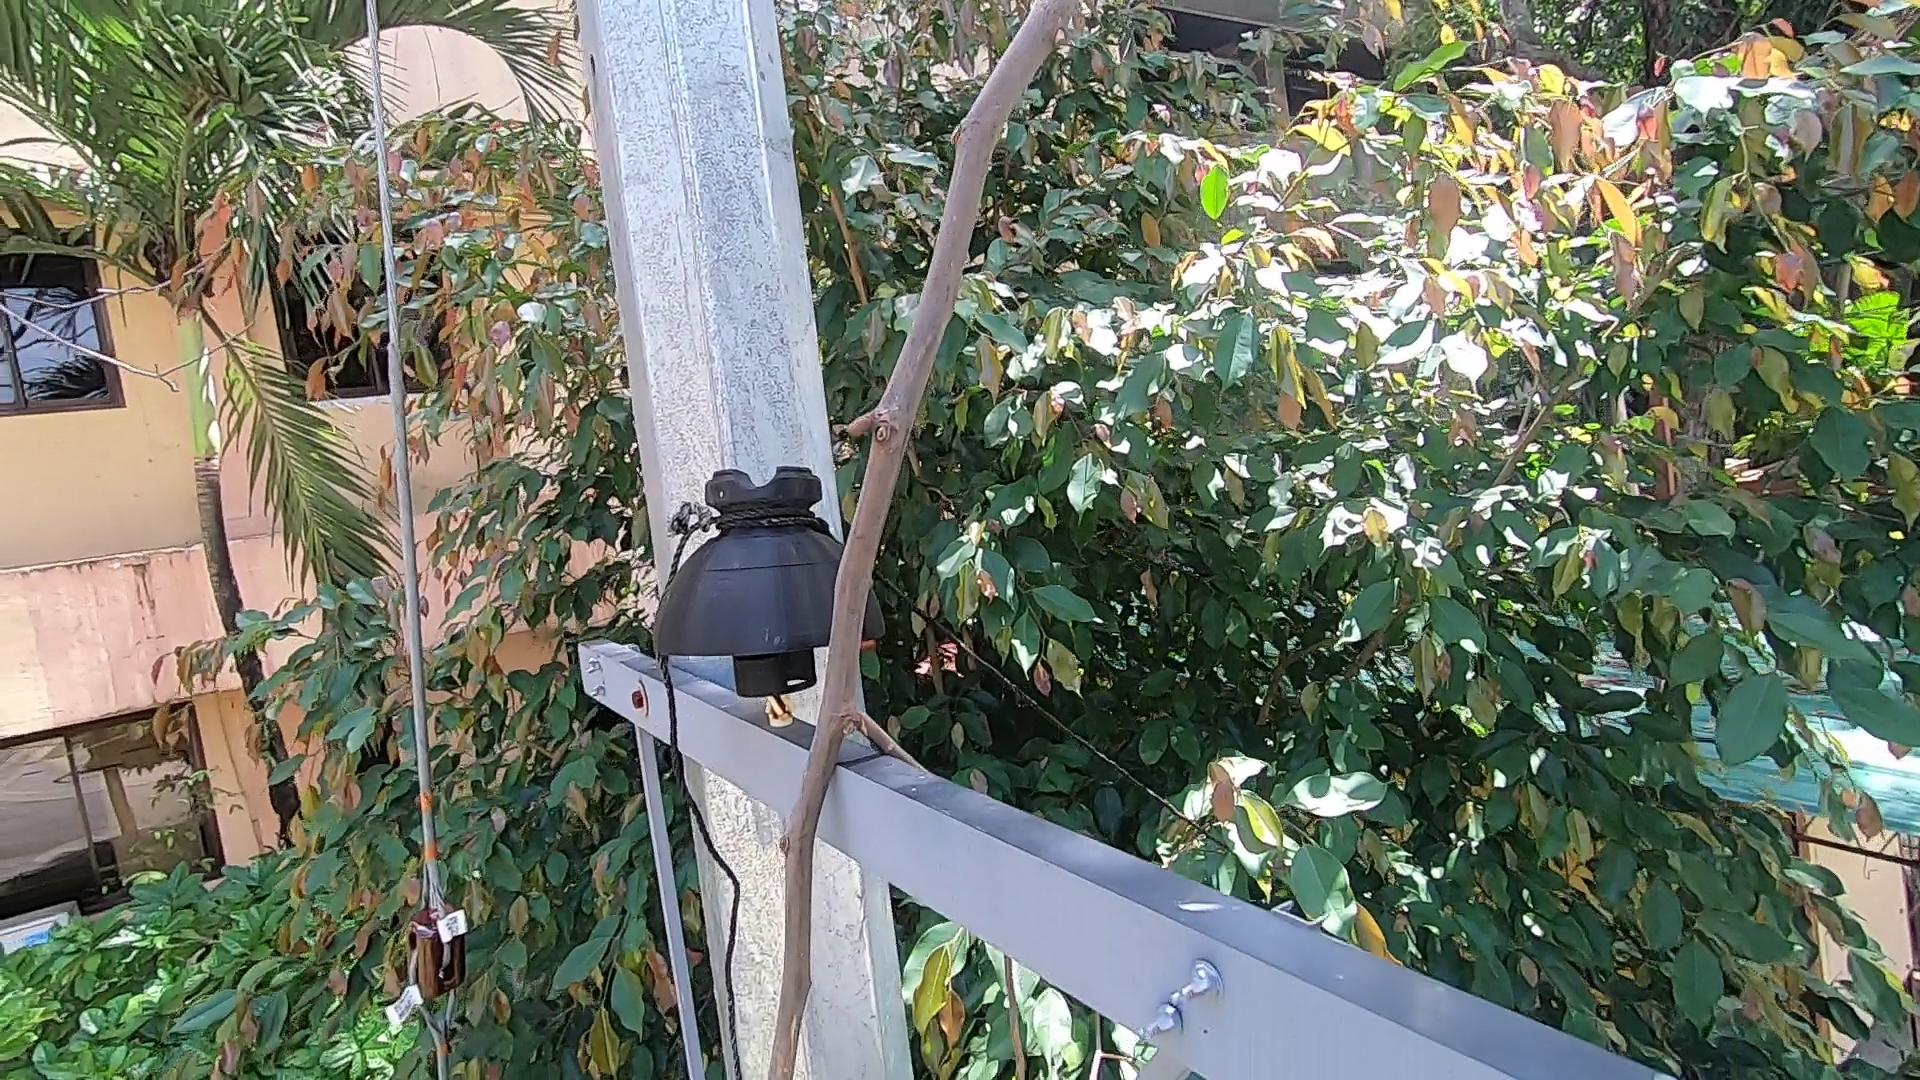tree branch: (756, 3, 1083, 1080)
